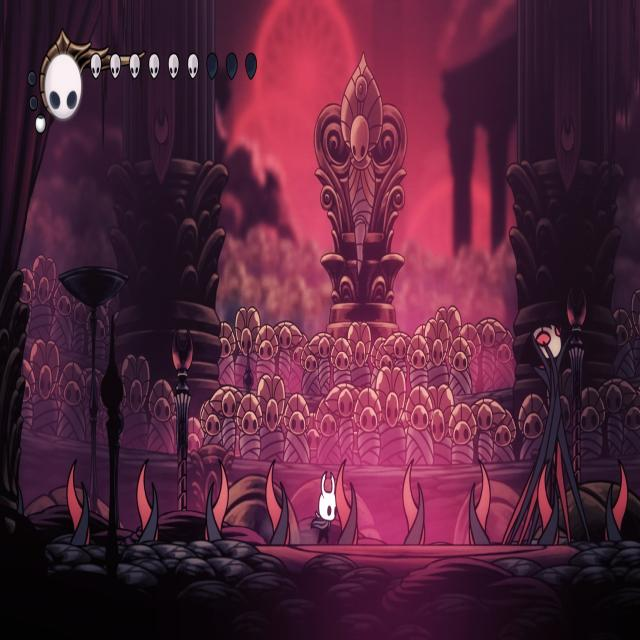Grimm: (500, 318, 591, 542)
Player: (310, 465, 342, 551)
Spikes: (66, 458, 90, 549), (334, 460, 359, 547), (204, 460, 230, 542), (135, 459, 160, 544), (403, 461, 428, 543), (267, 460, 290, 546), (469, 463, 492, 544), (608, 461, 630, 541)
